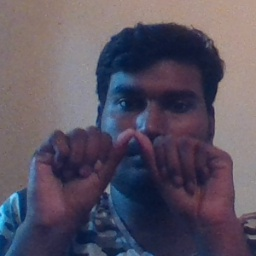A: (43, 122, 218, 227)
